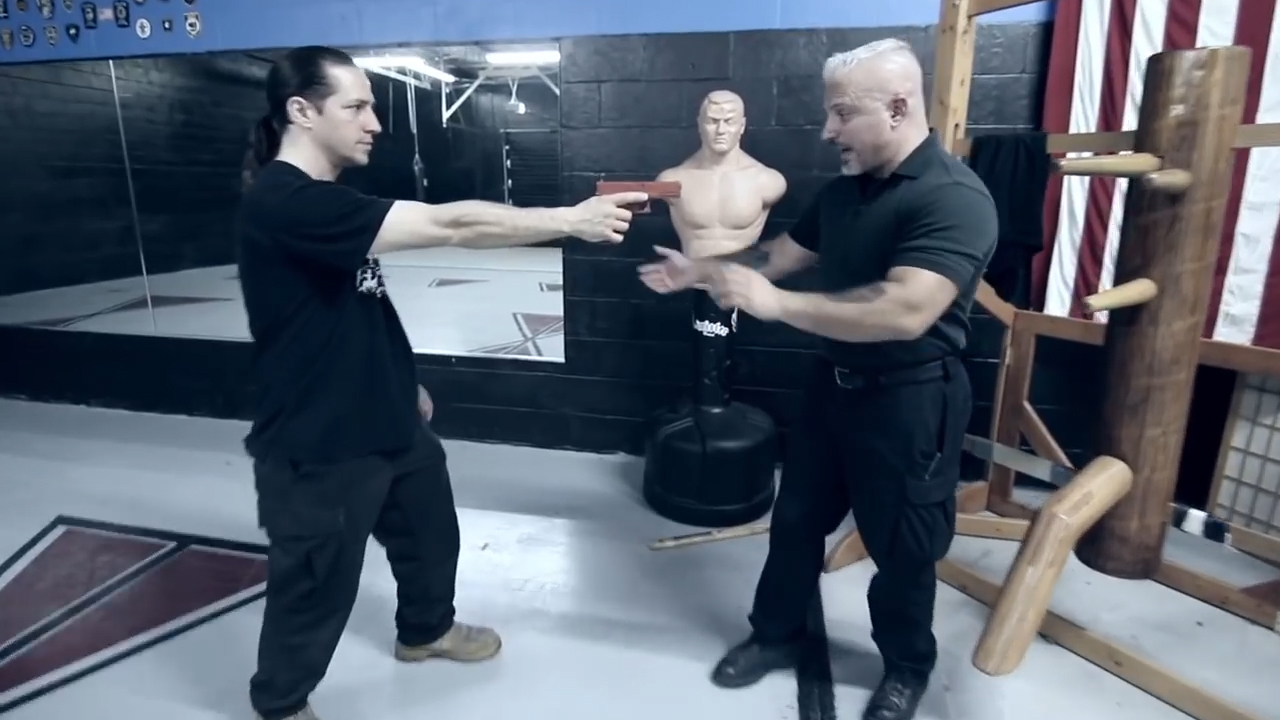pistol: (593, 179, 683, 216)
